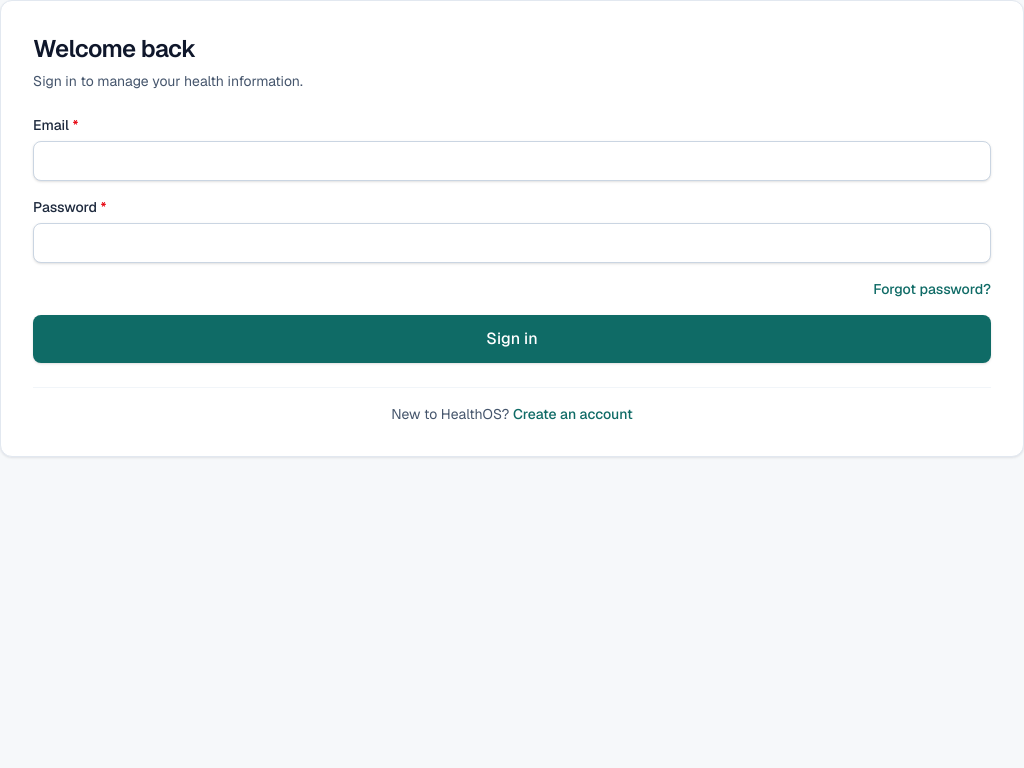
Test: LoginForm › offers to resend verification for unverified accounts
Step 1. Type "alice@example.com" into the field labelled "Email *" → (512, 161), box [33, 141, 991, 181]
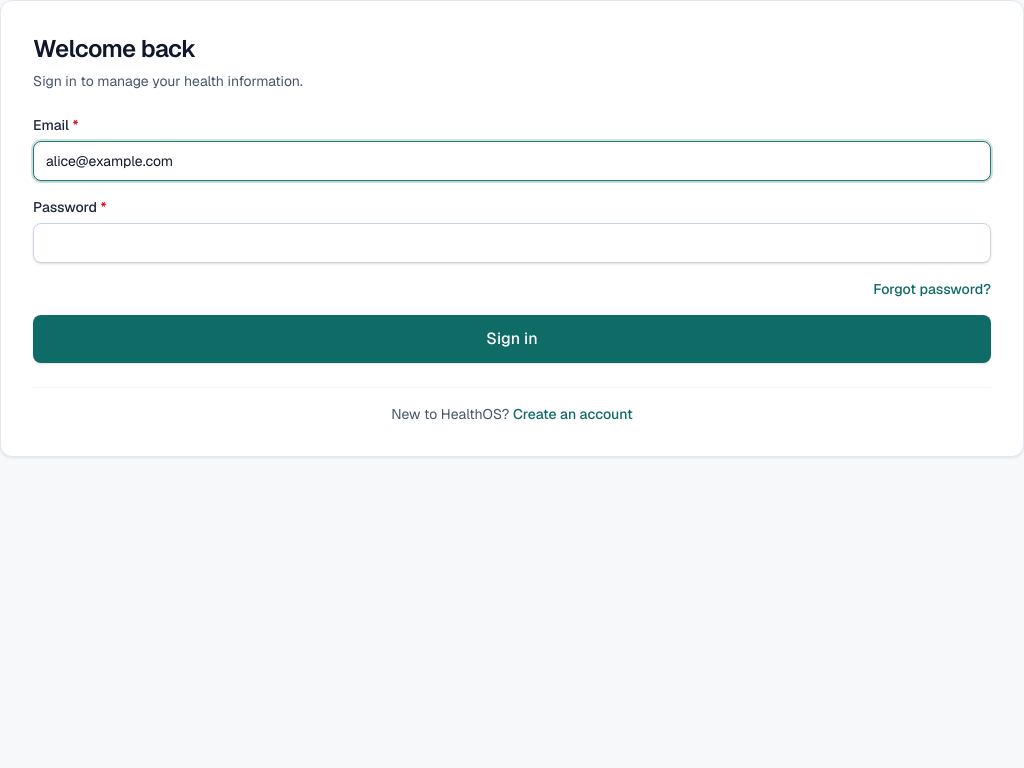
Step 2. Type "Correct-Horse-1" into the password field labelled "Password *" → (512, 243), box [33, 223, 991, 263]
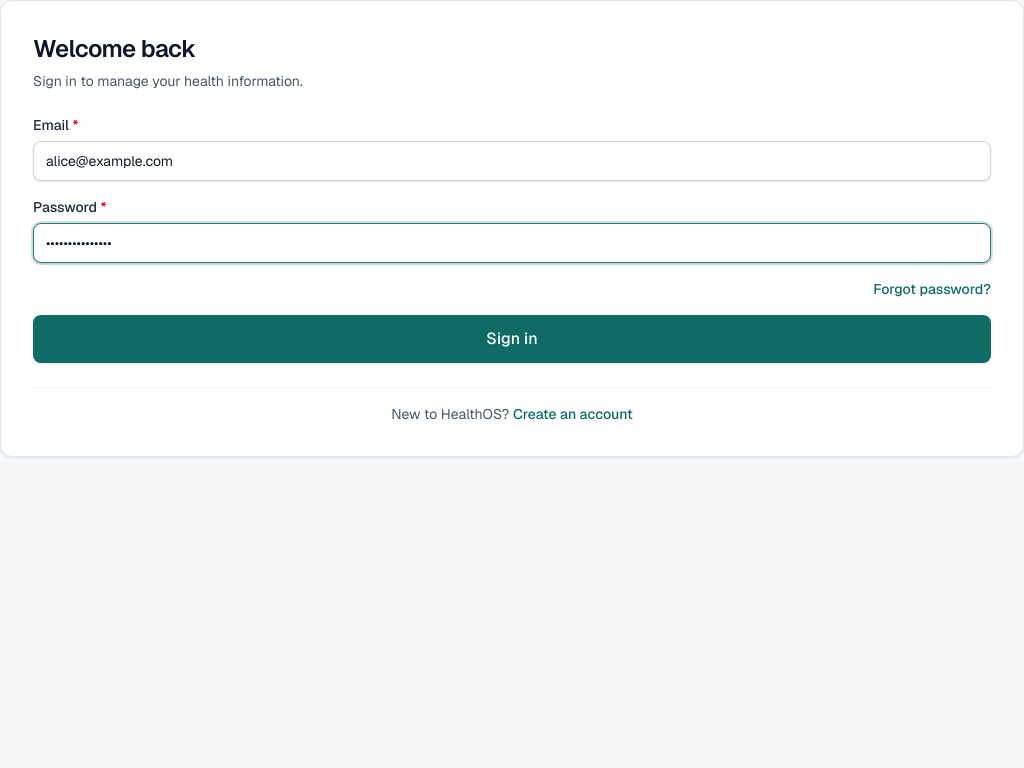
Step 3. Click the button "Sign in" → (512, 339), box [33, 315, 991, 363]
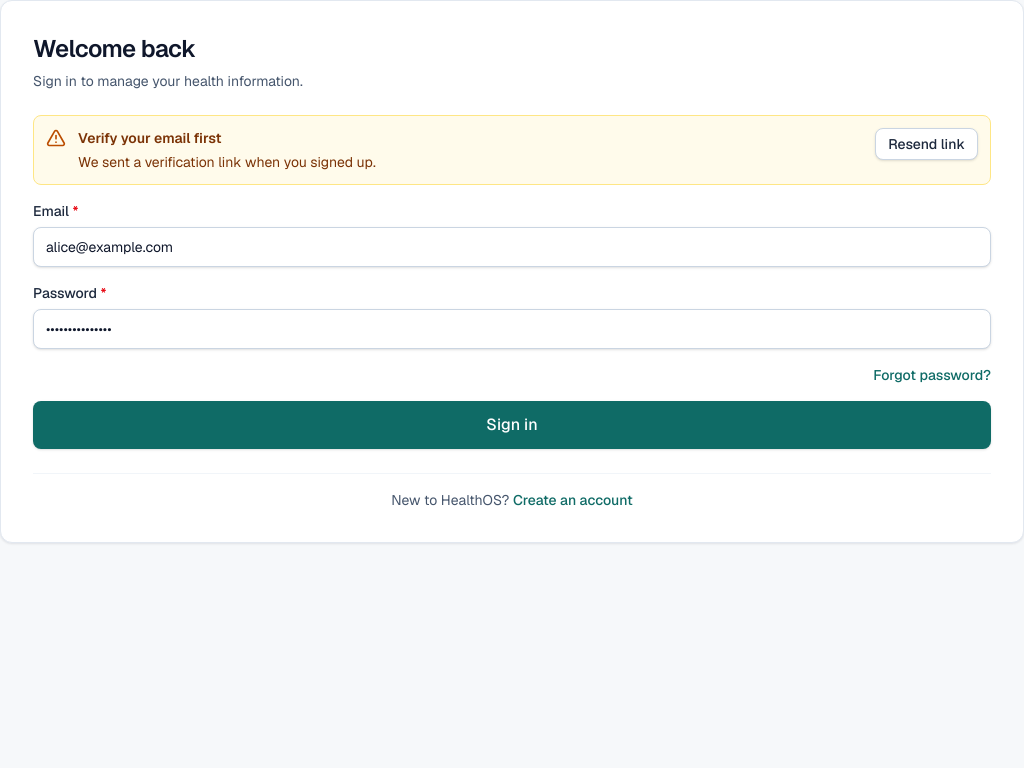
Now the text "Verify your email first" is shown, box [78, 129, 222, 147]
Now the button "Resend link" is shown, box [875, 128, 978, 160]
